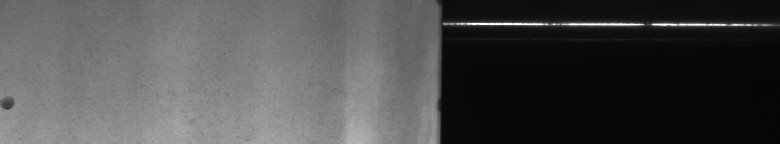fi: (4, 91, 20, 116)
